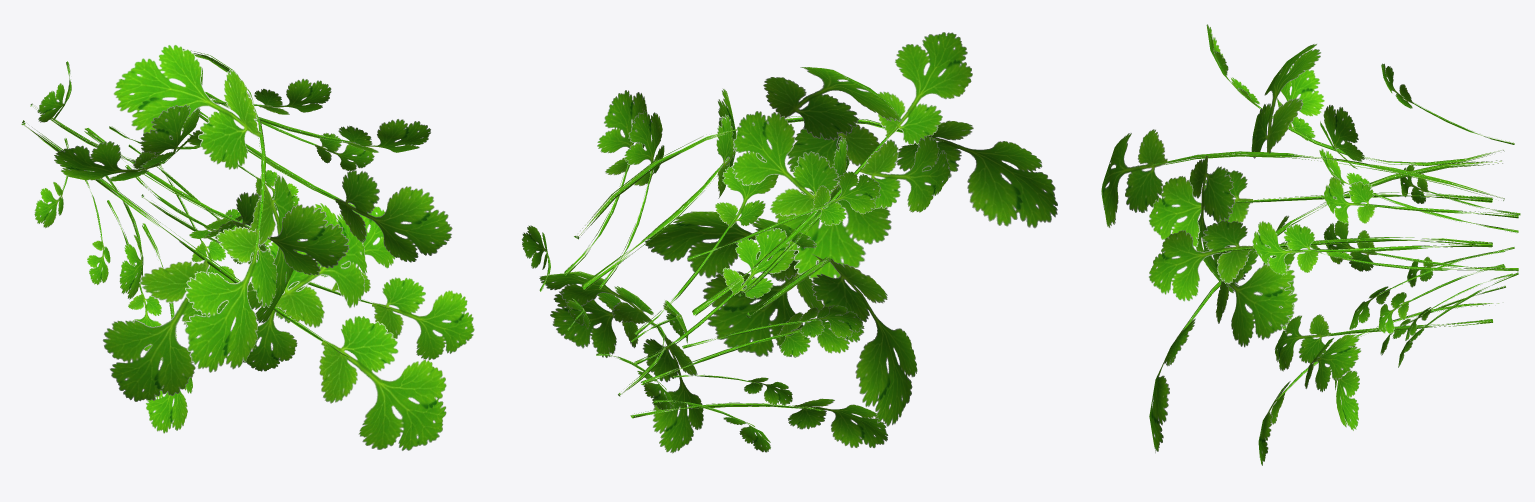
File: Coriander.fbx
3 views of the same model, side by side, from view 1: azimuth 30°, elevation 25°; view 2: azimuth 150°, elevation 25°; view 3: azimuth 270°, elevation 25° (orthographic). The views are drawn at different scales.
Parts seen in each view (by area): view 1: Object_8; view 2: Object_8; view 3: Object_8.
Part boxes in pixels (x1,y1,x2,y2): Object_8: (21, 44, 474, 450); Object_8: (521, 32, 1057, 453); Object_8: (1101, 24, 1520, 465).
Bounding box in the file's own units: 73.87 × 69.88 × 70.76.
